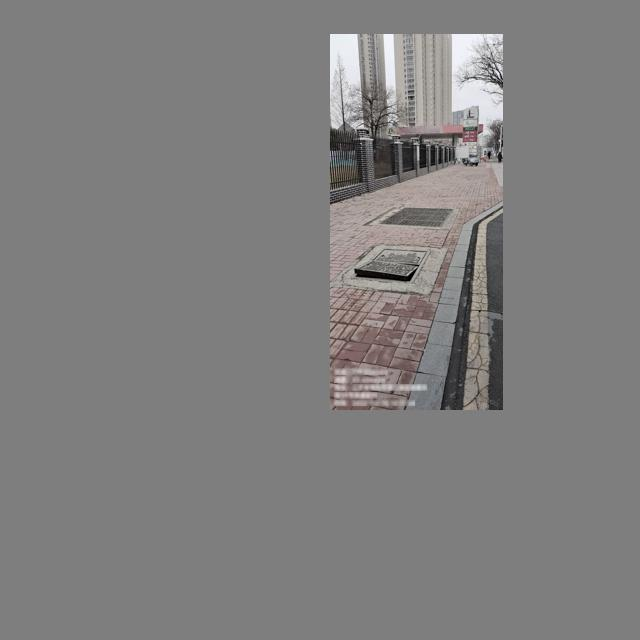good: (379, 206, 454, 230)
uncovered: (349, 248, 429, 282)
